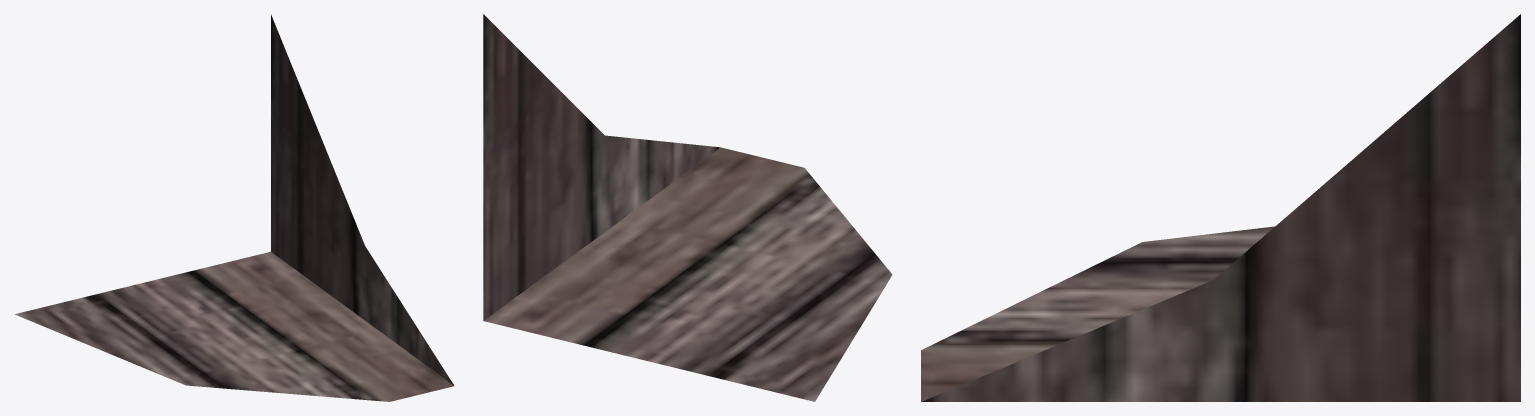
Rendered from cratedebris.gltf.
3 renders of one model, left to right at view 1: azimuth 30°, elevation 25°; view 2: azimuth 150°, elevation 25°; view 3: azimuth 270°, elevation 25°, orthographic. The views are drawn at different scales.
Parts seen in each view (by area): view 1: crate; view 2: crate; view 3: crate.
Part boxes in pixels (x1,y1,x2,y2): crate: (15,14,454,401); crate: (483,14,892,401); crate: (921,14,1520,401).
Bounding box in the file's own units: 0.5865 × 0.5189 × 0.727.
1 material, 1 textured.
